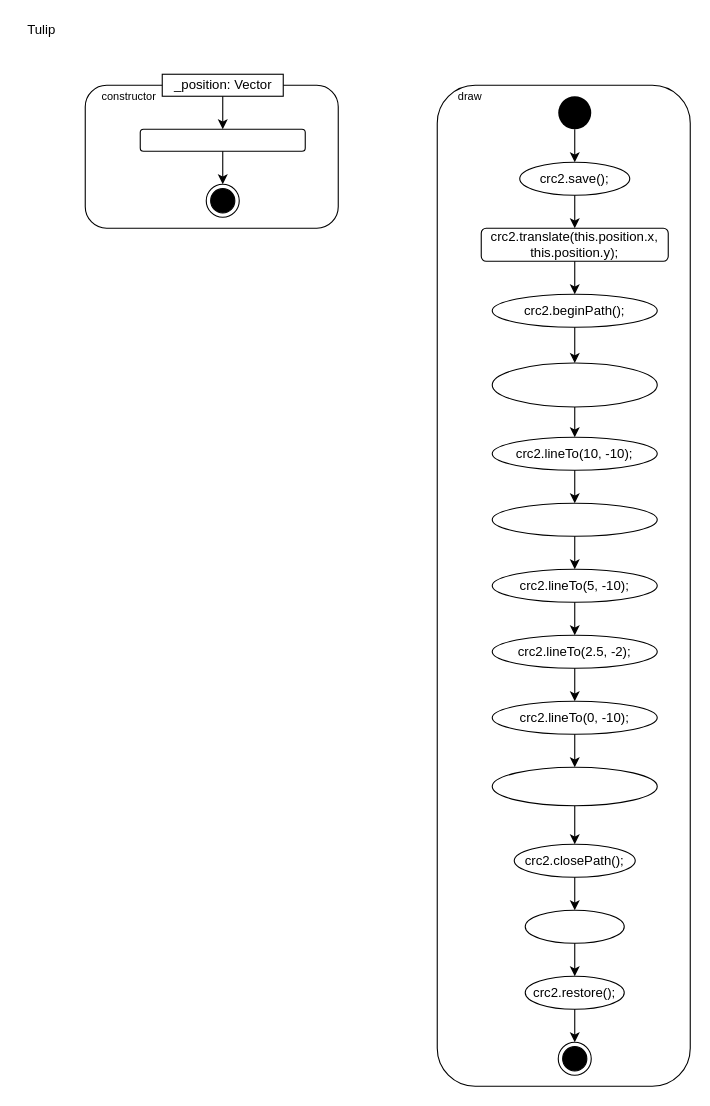
Image size: 710x1106. Some labels were removed from this diagram. Here are the shapes that lost their labels. From the top down, the centre of each, then its label:
At pixel 222 139: "super(_position);".
At pixel 574 384: "crc2.quadraticCurveTo (5, 5, 10, 0);".
At pixel 574 519: "crc2.lineTo(7.5, -2);".
At pixel 574 786: "crc2.lineTo(0, 0);".
At pixel 574 926: "crc2.fill();".
